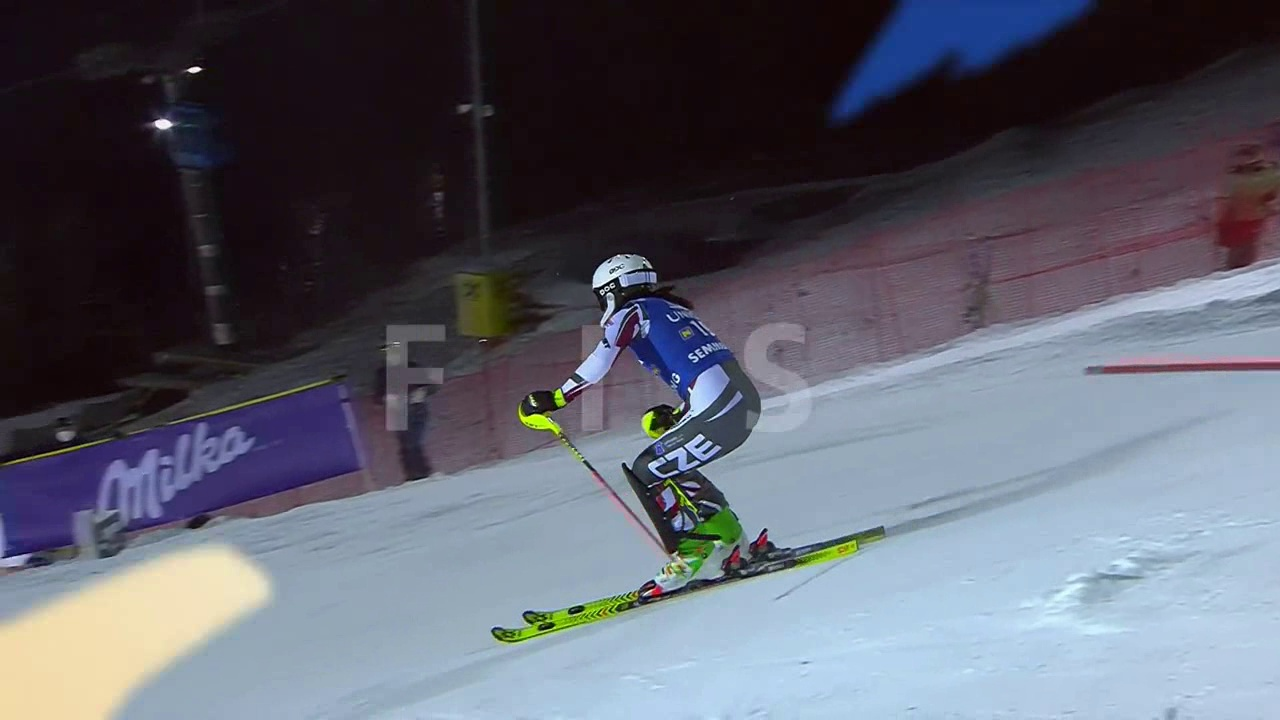milka: (68, 417, 290, 541)
